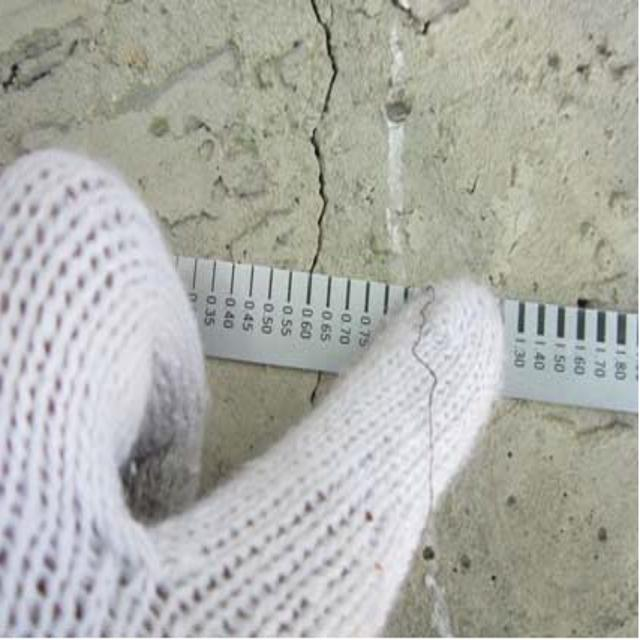crack: (288, 0, 352, 281)
